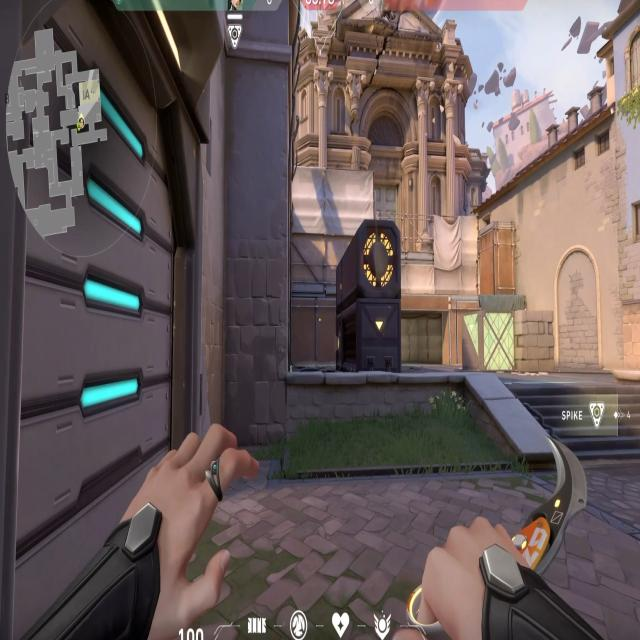A_Door: (15, 0, 200, 613)
A_Heaven_Box: (474, 218, 521, 299)
A_Heaven_Wall: (303, 149, 387, 294)
A_Hell: (402, 287, 453, 365)
A_Site_Box: (458, 296, 558, 381)
